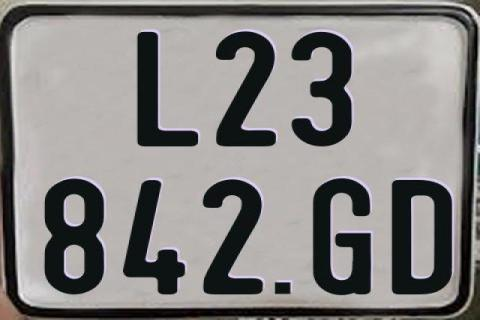0: (216, 29, 282, 148), (200, 178, 264, 298), (122, 178, 188, 294), (288, 32, 353, 146), (41, 176, 101, 292)
D: (392, 180, 456, 299)
G: (312, 176, 375, 293)
L: (135, 31, 201, 149)
